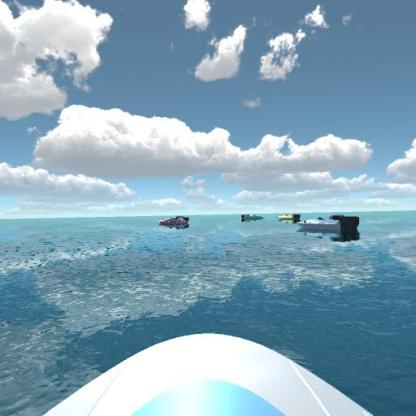usv1: (295, 211, 365, 241)
usv2: (276, 208, 298, 223)
usv3: (157, 212, 193, 232), (240, 208, 268, 223)
